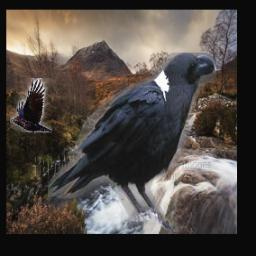Crow: (49, 53, 217, 233), (11, 78, 53, 132)
